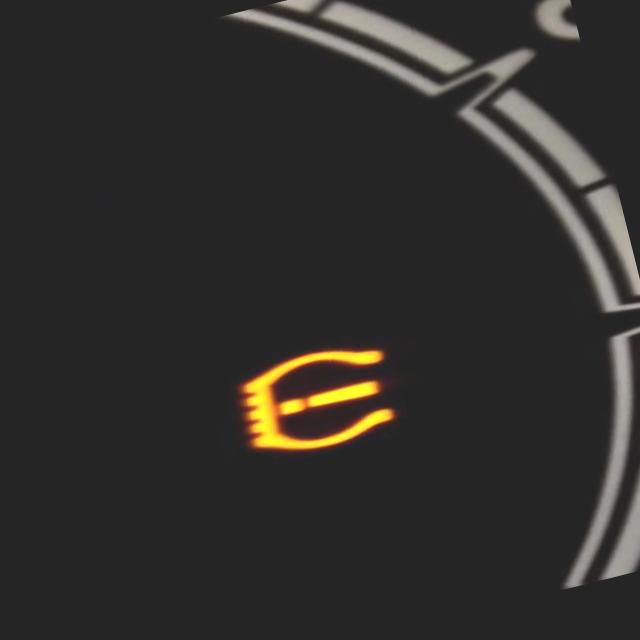kontrolka: (188, 306, 426, 496)
